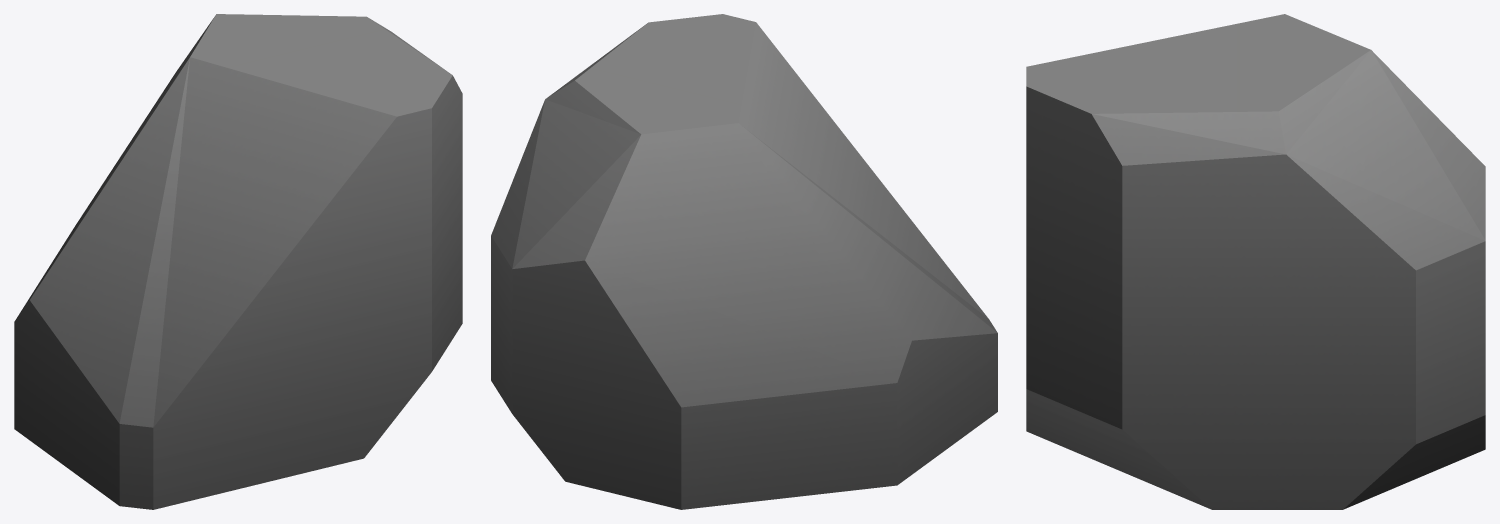
Rendered from Jungle_Rock_Large_B.fbx.
The picture shows the model from 3 angles, left to right: view 1: azimuth 30°, elevation 25°; view 2: azimuth 150°, elevation 25°; view 3: azimuth 270°, elevation 25°; orthographic projection. The views are drawn at different scales.
Parts seen in each view (by area): view 1: Jungle_Rock_Large_B; view 2: Jungle_Rock_Large_B; view 3: Jungle_Rock_Large_B.
Part boxes in pixels (x1,y1,x2,y2): Jungle_Rock_Large_B: [14, 14, 462, 509]; Jungle_Rock_Large_B: [491, 14, 997, 509]; Jungle_Rock_Large_B: [1026, 14, 1485, 509].
Bounding box in the file's own units: 2.25 × 1.93 × 2.1.
Materials: 1 (1 with a texture image).
